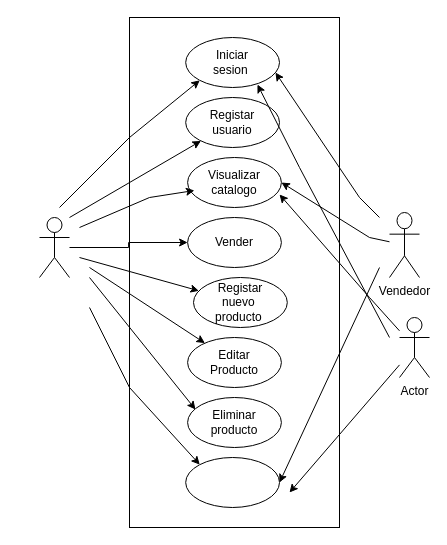
The diagram is 447 pixels wide and 545 high, and some of its shapes have lost their labels. The shapes that lost their labels are listed below. From the top down, each one's centre as x and y in pixels, then its label:
At (54,247): "Administrador".
At (232,482): "Salir".
